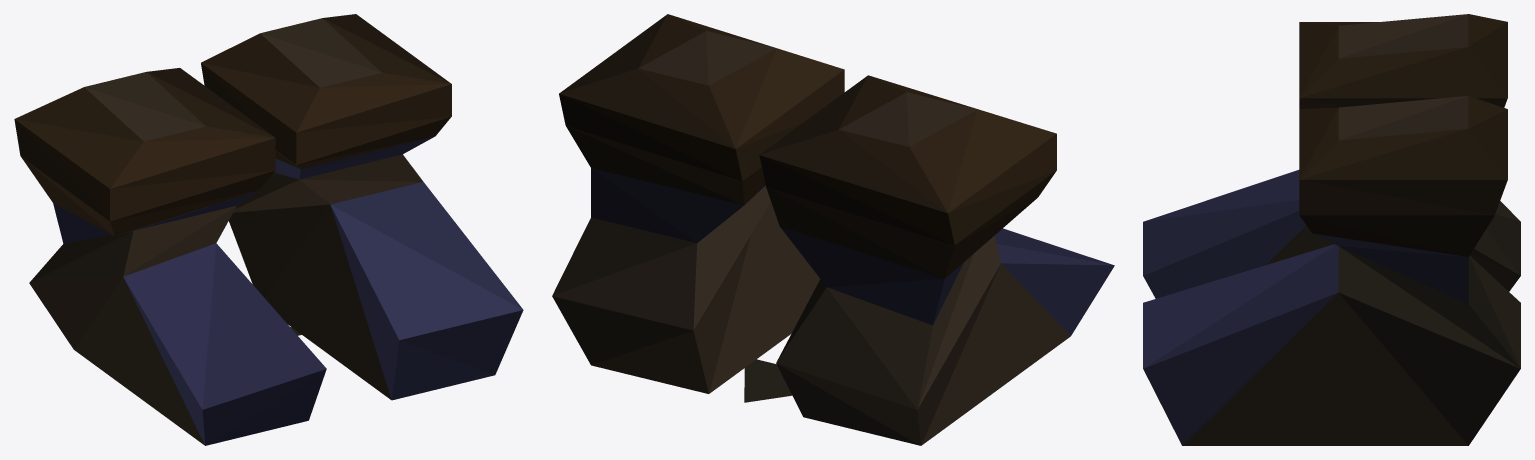
The model's file is mithril-boots.obj.
The picture shows the model from 3 angles, left to right: view 1: azimuth 30°, elevation 25°; view 2: azimuth 150°, elevation 25°; view 3: azimuth 270°, elevation 25°; orthographic projection. The views are drawn at different scales.
Parts seen in each view (by area): view 1: Item Mithril boots 2026-09-24_18-24-07; view 2: Item Mithril boots 2026-09-24_18-24-07; view 3: Item Mithril boots 2026-09-24_18-24-07.
Boxes of the visible parts, x1,y1,x2,y2 form: Item Mithril boots 2026-09-24_18-24-07: [14, 14, 523, 445]; Item Mithril boots 2026-09-24_18-24-07: [552, 14, 1114, 445]; Item Mithril boots 2026-09-24_18-24-07: [1143, 14, 1520, 445].
Size of the model in its own units: 33 by 25 by 29.
